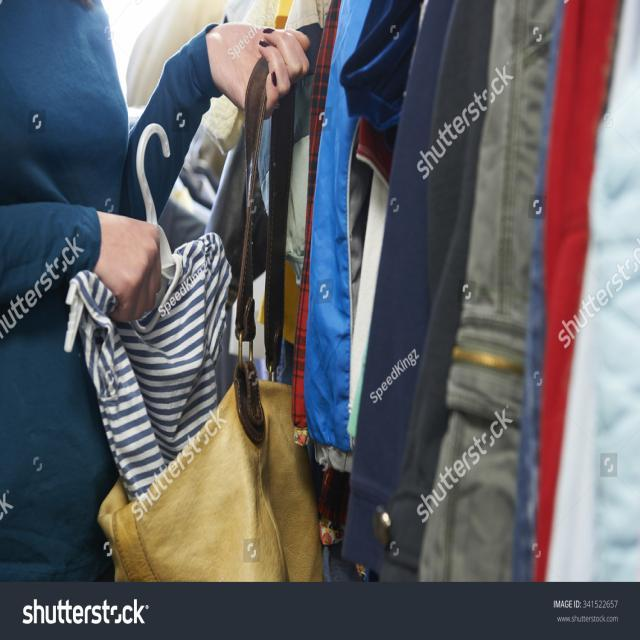Shoplifting: (40, 45, 432, 579)
